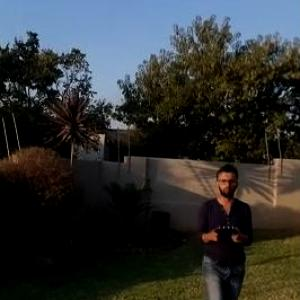follow: (193, 158, 255, 299)
